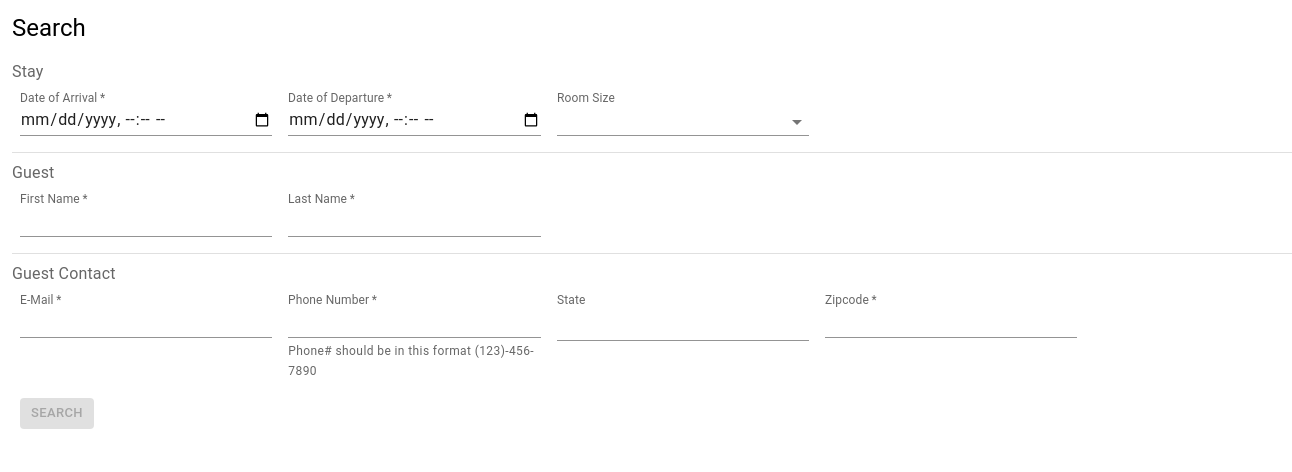
Scenario: Reservation page › should validate last name
Type "test-last-name-test-last-name-test-last-name-test-last-name-test-last-name-test-last-name-test-last-name-test-last-name" into the field with test id "last-name" at (414, 222), box left=288, top=208, right=541, bottom=237
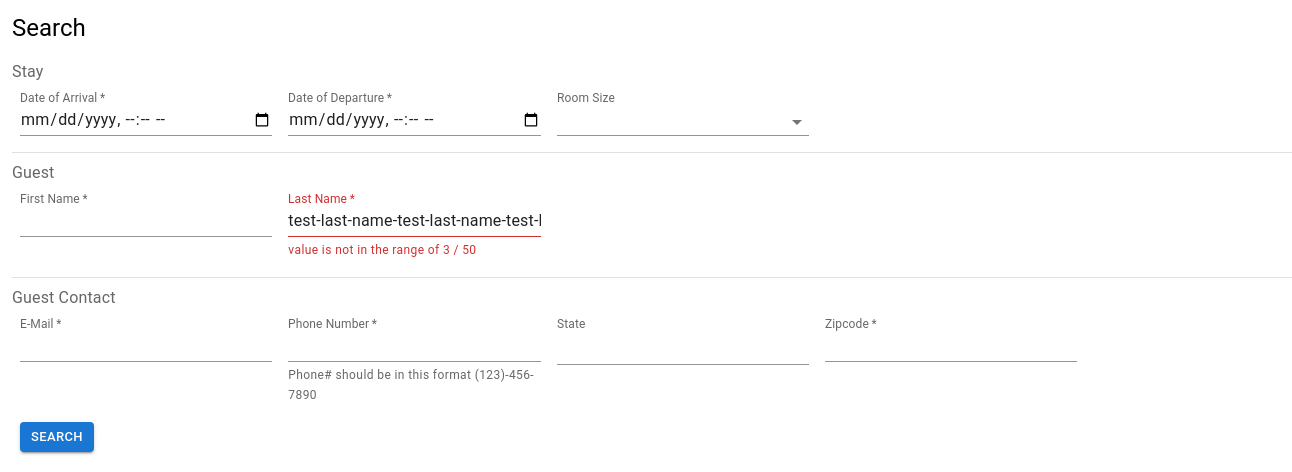
Now the text "value is not in the range of 3 / 50" is shown, box left=288, top=243, right=476, bottom=257
